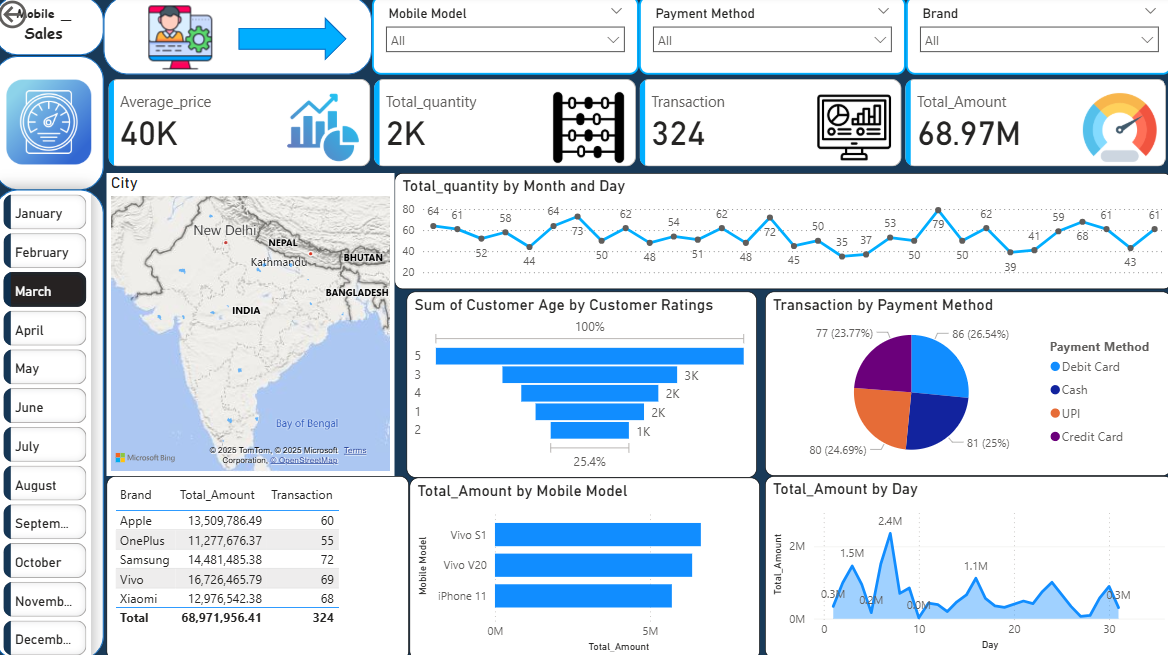

What the dashboard file says about the page in this screenshot:
{"tool":"powerbi","page":{"name":"Dashboard","canvas":[1280,720],"ordinal":0},"visuals":[{"type":"shape","box":[0,0,119.1,64.3],"z":0},{"type":"shape","box":[0,64.3,119.1,145.5],"z":1000},{"type":"shape","box":[0,209.8,119.1,510.2],"z":2000},{"type":"advancedSlicerVisual","fields":{"Values":["Custom_calender.Date.Variation.Date Hierarchy.Month"]},"box":[5.7,209.8,100.2,510.2],"z":3000},{"type":"cardVisual","fields":{"Data":["Sales_data.Average_price","Sales_data.Total_quantity","Sales_data.Transaction","Sales_data.Total_Amount"]},"box":[119.1,85,1160.3,105.8],"z":4000},{"type":"slicer","fields":{"Values":["Sales_data.Mobile Model"]},"box":[410.1,0,289.1,85],"z":5000},{"type":"slicer","fields":{"Values":["Sales_data.Payment Method"]},"box":[699.2,0,289.1,85],"z":6000},{"type":"slicer","fields":{"Values":["Sales_data.Brand"]},"box":[988.4,0,289.1,85],"z":7000},{"type":"shape","box":[119.1,0,291,85],"z":8000},{"type":"image","box":[119.1,5.7,166.3,79.4],"z":9000},{"type":"shape","box":[264.6,22.7,117.2,47.2],"z":10000},{"type":"textbox","box":[13.2,1.9,81.3,58.6],"z":11000},{"type":"filledMap","fields":{"Category":["Sales_data.City"]},"box":[122,192,312,328],"z":12000},{"type":"lineChart","fields":{"Y":["Sales_data.Total_quantity"],"Category":["Custom_calender.Date.Variation.Date Hierarchy.Month","Custom_calender.Date.Variation.Date Hierarchy.Day"]},"box":[434,192,844,126],"z":13000},{"type":"funnel","fields":{"Category":["Sales_data.Customer Ratings"],"Y":["Sum(Sales_data.Customer Age)"]},"box":[448,320,380,202],"z":14000},{"type":"pieChart","fields":{"Y":["Sales_data.Transaction"],"Category":["Sales_data.Payment Method"]},"box":[836,320,442,200],"z":15000},{"type":"clusteredBarChart","fields":{"Y":["Sales_data.Total_Amount"],"Category":["Sales_data.Mobile Model"]},"box":[450,522,380,198],"z":16000},{"type":"areaChart","fields":{"Y":["Sales_data.Total_Amount"],"Category":["Custom_calender.Date.Variation.Date Hierarchy.Day"]},"box":[836,520,444,198],"z":17000},{"type":"tableEx","fields":{"Values":["Sales_data.Brand","Sales_data.Total_Amount","Sales_data.Transaction"]},"box":[122,520,328,200],"z":17001},{"type":"actionButton","box":[0,0,100,40],"z":17002},{"type":"image","box":[8,82,102,110],"z":17003}]}

Visuals, with their boxes in screenshot pixels (x1, y1, x2, y2), scaled from the page's 1280x720 canvas onto the 1168x655 screenshot:
shape: 0:0:109:58
shape: 0:58:109:191
shape: 0:191:109:654
advancedSlicerVisual - Custom_calender.Date.Variation.Date Hierarchy.Month: 5:191:97:654
cardVisual - Sales_data.Average_price x Sales_data.Total_quantity: 109:77:1167:174
slicer - Sales_data.Mobile Model: 374:0:638:77
slicer - Sales_data.Payment Method: 638:0:902:77
slicer - Sales_data.Brand: 902:0:1166:77
shape: 109:0:374:77
image: 109:5:260:77
shape: 241:21:348:64
textbox: 12:2:86:55
filledMap - Sales_data.City: 111:175:396:473
lineChart - Sales_data.Total_quantity x Custom_calender.Date.Variation.Date Hierarchy.Month: 396:175:1166:289
funnel - Sales_data.Customer Ratings x Sum(Sales_data.Customer Age): 409:291:756:475
pieChart - Sales_data.Transaction x Sales_data.Payment Method: 763:291:1166:473
clusteredBarChart - Sales_data.Total_Amount x Sales_data.Mobile Model: 411:475:757:654
areaChart - Sales_data.Total_Amount x Custom_calender.Date.Variation.Date Hierarchy.Day: 763:473:1167:653
tableEx - Sales_data.Brand x Sales_data.Total_Amount: 111:473:411:654
actionButton: 0:0:91:36
image: 7:75:100:175
